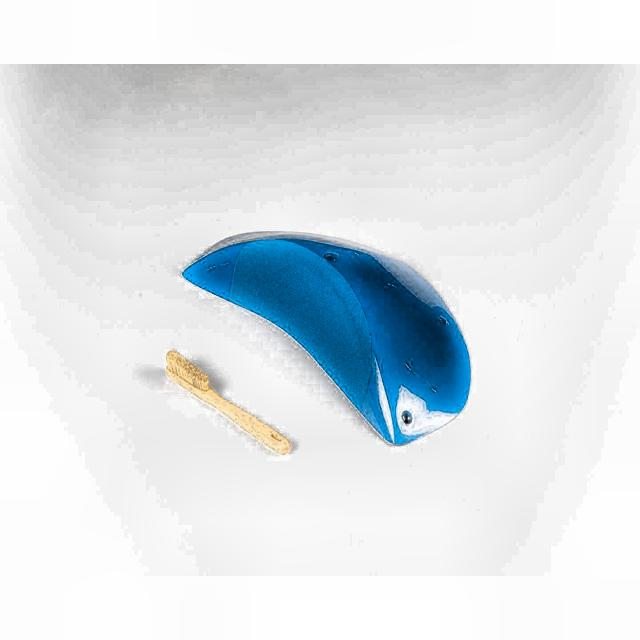Hold: (179, 220, 473, 444)
